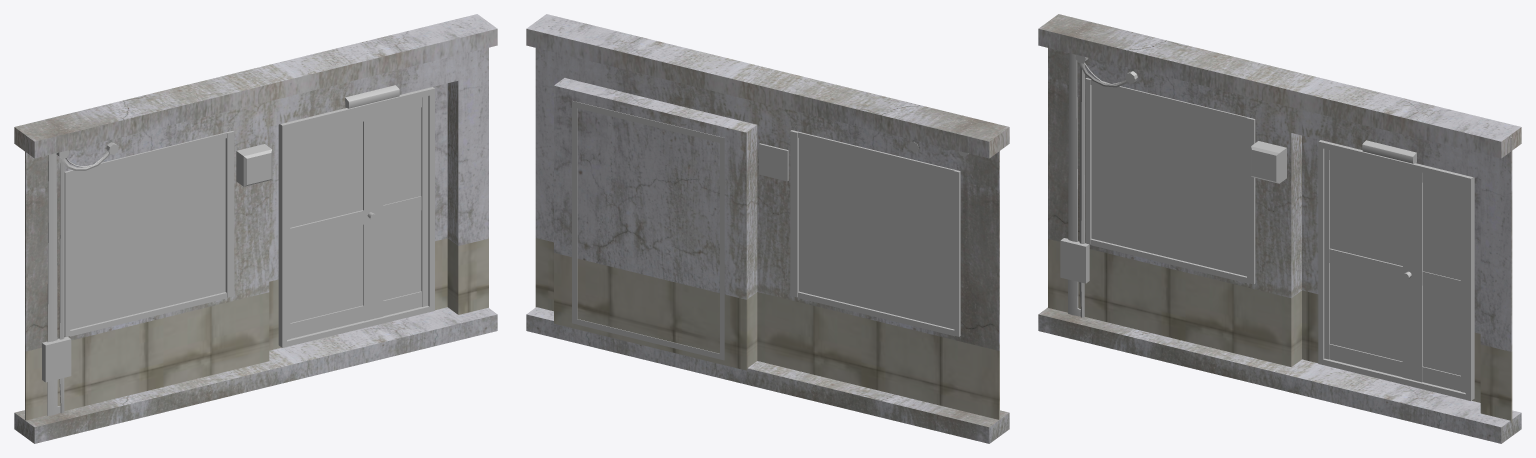
Rendered from shop_f_null07a.fbx.
The picture shows the model from 3 angles, left to right: view 1: azimuth 30°, elevation 25°; view 2: azimuth 150°, elevation 25°; view 3: azimuth 330°, elevation 25°; orthographic projection.
Visible parts, largest first — view 1: shop_f_null07a; view 2: shop_f_null07a; view 3: shop_f_null07a.
Boxes of the visible parts, x1,y1,x2,y2 form: shop_f_null07a: (14,14,497,443); shop_f_null07a: (526,14,1009,443); shop_f_null07a: (1038,14,1521,443).
Bounding box in the file's own units: 5.47 × 3.41 × 0.4307.
